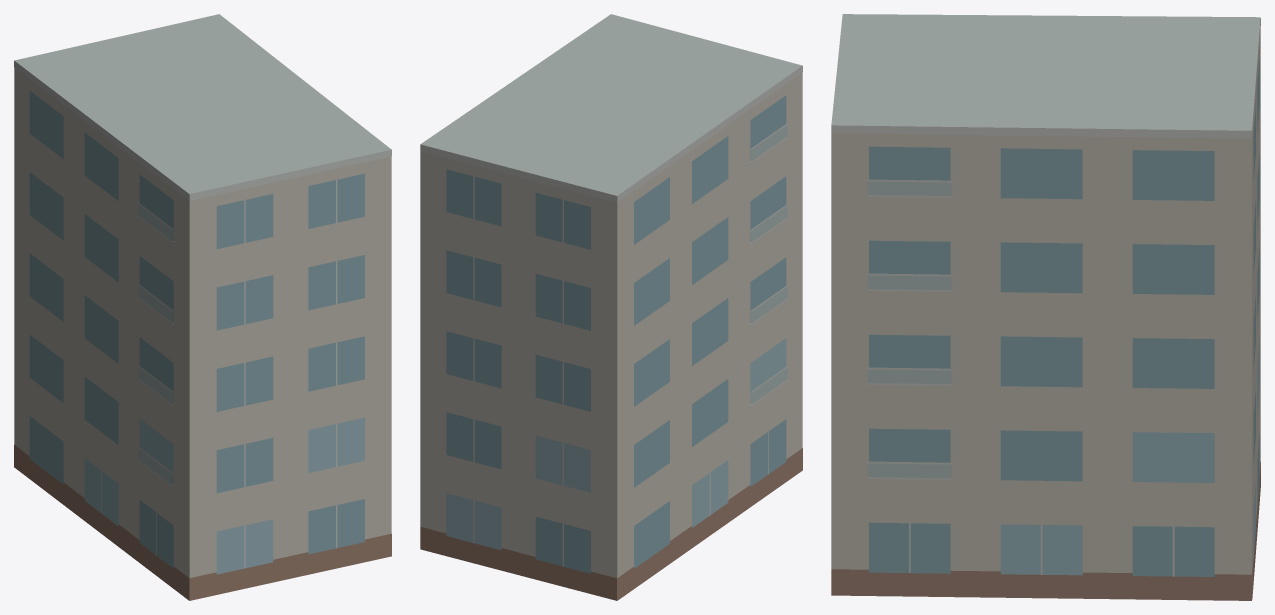
File: survey-upis-32874692.glb
3 renders of one model, left to right at view 1: azimuth 30°, elevation 25°; view 2: azimuth 150°, elevation 25°; view 3: azimuth 270°, elevation 25°, orthographic. The views are drawn at different scales.
Visible parts, largest first — view 1: survey-upis-32874692.tmp; view 2: survey-upis-32874692.tmp; view 3: survey-upis-32874692.tmp.
Boxes of the visible parts, x1,y1,x2,y2 form: survey-upis-32874692.tmp: [14, 14, 391, 600]; survey-upis-32874692.tmp: [420, 14, 802, 600]; survey-upis-32874692.tmp: [831, 14, 1260, 600].
Size of the model in its own units: 7.78 by 14.55 by 12.06.
